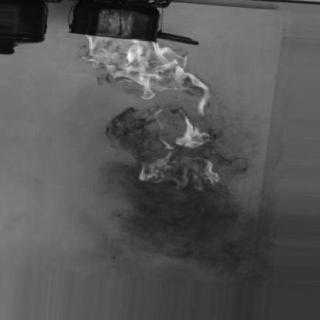Fire: (80, 35, 232, 193)
